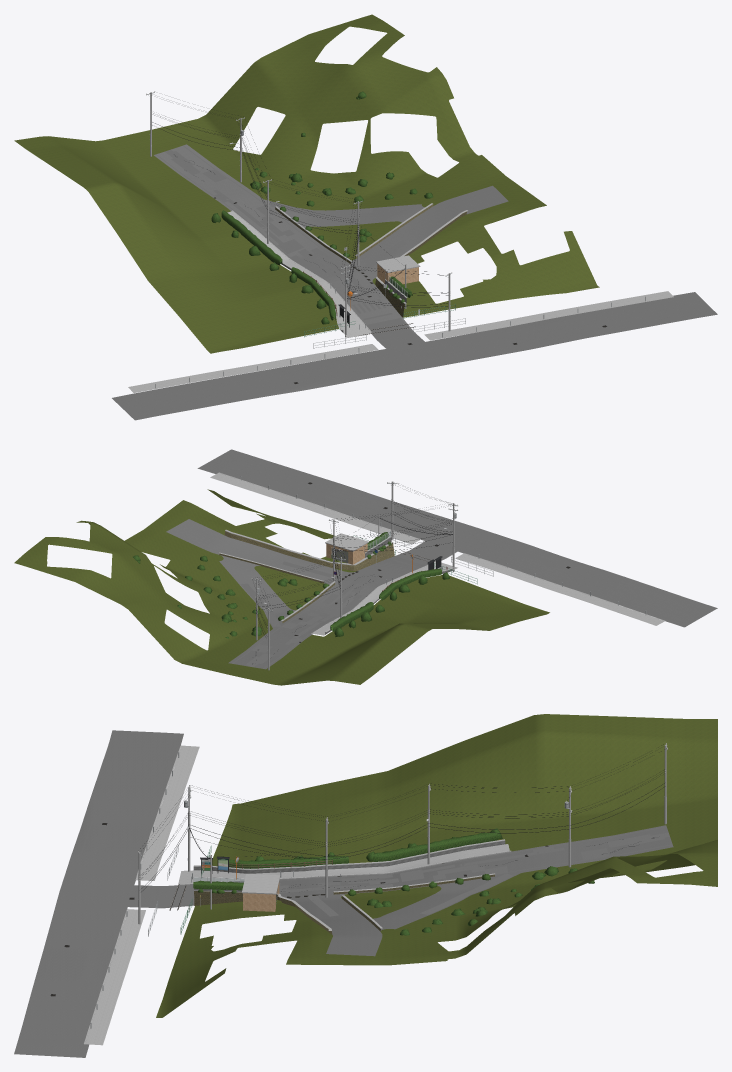
File: nissaka.glb
3 renders of one model, top to bottom at view 1: azimuth 30°, elevation 25°; view 2: azimuth 150°, elevation 25°; view 3: azimuth 270°, elevation 25°, orthographic. The views are drawn at different scales.
Visible parts, largest first — view 1: nissaka_ground_grass, nissaka_ground_asphalt, nissaka_ground_pave, nissaka_ground_white, nissaka_ground_old, nissaka_ground_patch, nissaka_hedge, nissaka_shrub, nissaka_conc, nissaka_cable, nissaka_wall_rubble, nissaka_pole (+2 smaller); view 2: nissaka_ground_grass, nissaka_ground_asphalt, nissaka_ground_pave, nissaka_ground_white, nissaka_ground_old, nissaka_ground_patch, nissaka_wall_rubble, nissaka_hedge, nissaka_shrub, nissaka_conc, nissaka_cable, nissaka_pole (+2 smaller); view 3: nissaka_ground_grass, nissaka_ground_asphalt, nissaka_ground_pave, nissaka_ground_old, nissaka_hedge, nissaka_ground_patch, nissaka_ground_white, nissaka_cable, nissaka_conc, nissaka_pole, nissaka_shrub, nissaka_wall_block (+5 smaller).
Boxes of the visible parts, x1,y1,x2,y2 form: nissaka_ground_grass: (14, 14, 599, 353); nissaka_ground_asphalt: (112, 144, 717, 420); nissaka_ground_pave: (128, 211, 673, 392); nissaka_ground_white: (126, 145, 703, 415); nissaka_ground_old: (171, 157, 635, 339); nissaka_ground_patch: (165, 149, 422, 391); nissaka_hedge: (221, 171, 433, 320); nissaka_shrub: (211, 91, 417, 324); nissaka_conc: (275, 203, 467, 330); nissaka_cable: (152, 109, 448, 307); nissaka_wall_rubble: (275, 204, 466, 317); nissaka_pole: (150, 92, 450, 337); nissaka_ground_grass: (14, 489, 549, 685); nissaka_ground_asphalt: (166, 449, 717, 669); nissaka_ground_pave: (210, 473, 664, 635); nissaka_ground_white: (211, 454, 703, 668); nissaka_ground_old: (240, 479, 395, 663); nissaka_ground_patch: (246, 541, 606, 667); nissaka_wall_rubble: (219, 531, 394, 622); nissaka_hedge: (200, 532, 441, 636); nissaka_shrub: (133, 541, 449, 638); nissaka_conc: (219, 529, 453, 632); nissaka_cable: (256, 483, 452, 636); nissaka_pole: (256, 481, 454, 670); nissaka_ground_grass: (156, 714, 717, 1017); nissaka_ground_asphalt: (14, 730, 673, 1057); nissaka_ground_pave: (85, 745, 509, 1045); nissaka_ground_old: (69, 834, 651, 1018); nissaka_hedge: (193, 831, 522, 935); nissaka_ground_patch: (91, 798, 669, 916); nissaka_ground_white: (24, 736, 672, 1050); nissaka_cable: (140, 744, 666, 891); nissaka_conc: (193, 839, 505, 930); nissaka_pole: (138, 744, 666, 924); nissaka_shrub: (198, 828, 594, 932); nissaka_wall_block: (193, 841, 505, 891).
Size of the model in its own units: 104 by 20.29 by 93.8.
34 materials, 19 textured.
